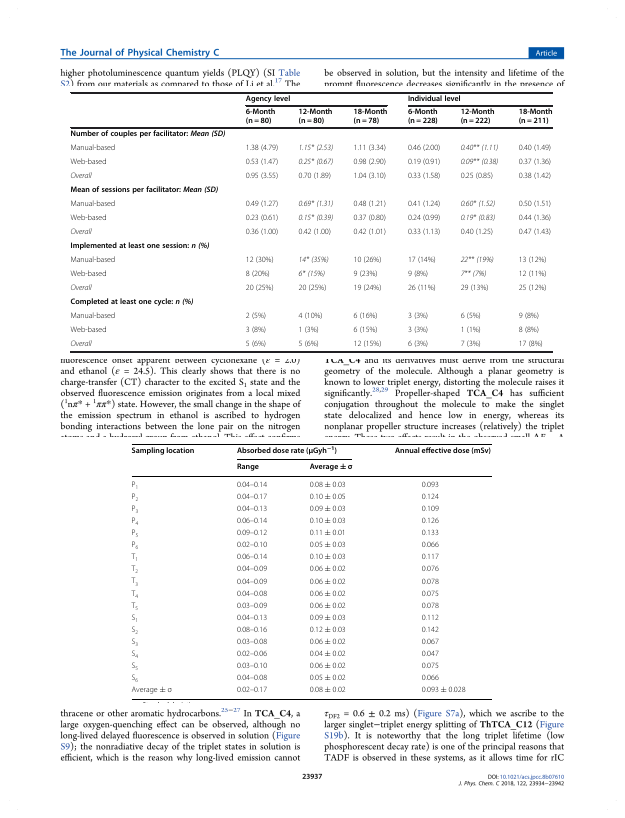borderless: (69, 91, 552, 351), (130, 442, 492, 699)
cell: (70, 130, 226, 140), (70, 186, 219, 196), (70, 242, 210, 252), (70, 298, 194, 308), (236, 445, 338, 456), (394, 446, 492, 456), (298, 108, 333, 127), (353, 108, 388, 127), (460, 108, 495, 127), (518, 108, 553, 127), (131, 446, 195, 456), (407, 108, 439, 127), (245, 108, 276, 127), (407, 95, 462, 104), (309, 462, 353, 472), (421, 686, 467, 695), (245, 95, 291, 104), (70, 144, 116, 153), (70, 200, 116, 209), (70, 256, 116, 265), (70, 312, 116, 321), (130, 686, 173, 695), (309, 480, 347, 490), (309, 492, 347, 502), (309, 601, 347, 611), (309, 613, 347, 623), (460, 144, 499, 153), (460, 158, 499, 167), (309, 505, 347, 514), (309, 517, 347, 526), (309, 529, 347, 538), (309, 541, 347, 550), (309, 553, 347, 562), (309, 565, 347, 574), (309, 577, 347, 586), (309, 589, 347, 598), (309, 626, 347, 635), (309, 638, 347, 647), (309, 650, 347, 659), (309, 662, 347, 671), (309, 674, 347, 683), (309, 686, 347, 695), (70, 158, 107, 167), (70, 214, 107, 223), (70, 270, 107, 279), (70, 326, 107, 335), (298, 144, 334, 153), (298, 158, 334, 167), (298, 200, 334, 209), (460, 200, 496, 209), (298, 214, 334, 223), (460, 214, 496, 223), (236, 480, 268, 490), (236, 492, 268, 502), (236, 601, 268, 611), (236, 613, 268, 623), (460, 256, 495, 265), (245, 144, 279, 153), (353, 144, 387, 153), (407, 144, 441, 153), (518, 144, 552, 153), (245, 158, 279, 167), (353, 158, 387, 167), (407, 158, 441, 167), (518, 158, 552, 167), (245, 172, 279, 181), (298, 172, 332, 181), (353, 172, 387, 181), (407, 172, 441, 181), (460, 172, 494, 181), (518, 172, 552, 181), (245, 200, 279, 209), (353, 200, 387, 209), (407, 200, 441, 209), (518, 200, 552, 209), (245, 214, 279, 223), (353, 214, 387, 223), (407, 214, 441, 223), (518, 214, 552, 223), (245, 228, 279, 237), (298, 228, 332, 237), (353, 228, 387, 237), (407, 228, 441, 237), (460, 228, 494, 237), (518, 228, 552, 237), (236, 505, 268, 514), (236, 517, 268, 526), (236, 529, 268, 538), (236, 541, 268, 550), (236, 553, 268, 562), (236, 565, 268, 574), (236, 577, 268, 586), (236, 589, 268, 598), (236, 626, 268, 635), (236, 638, 268, 647), (236, 650, 268, 659), (236, 662, 268, 671), (236, 674, 268, 683), (236, 686, 268, 695), (298, 256, 329, 265), (407, 256, 437, 265), (407, 284, 437, 293), (245, 256, 274, 265), (353, 256, 382, 265), (518, 256, 547, 265), (518, 270, 547, 279), (245, 284, 274, 293), (298, 284, 327, 293), (353, 284, 382, 293), (460, 284, 489, 293), (518, 284, 547, 293), (353, 340, 382, 349), (298, 270, 326, 279), (460, 270, 487, 279), (236, 462, 260, 472), (245, 270, 271, 279), (518, 340, 544, 349), (353, 270, 378, 279), (298, 312, 323, 321), (353, 312, 378, 321), (353, 326, 378, 335), (70, 172, 93, 181), (70, 228, 93, 237), (70, 284, 93, 293), (70, 340, 93, 349), (407, 270, 429, 279), (245, 312, 267, 321), (407, 312, 429, 321), (460, 312, 482, 321), (518, 312, 540, 321), (245, 326, 267, 335), (298, 326, 320, 335), (407, 326, 429, 335), (460, 326, 482, 335), (518, 326, 540, 335), (245, 340, 267, 349), (298, 340, 320, 349), (407, 340, 429, 349), (460, 340, 482, 349), (421, 480, 440, 490), (421, 492, 440, 502), (421, 601, 440, 611), (421, 613, 440, 623), (421, 505, 440, 514), (421, 517, 440, 526), (421, 529, 440, 538), (421, 541, 440, 550), (421, 553, 440, 562), (421, 565, 440, 574), (421, 577, 440, 586), (421, 589, 440, 598), (421, 626, 440, 635), (421, 638, 440, 647), (421, 650, 440, 659), (421, 662, 440, 671), (421, 674, 440, 683), (130, 553, 139, 564), (130, 565, 139, 576), (130, 577, 139, 588), (130, 589, 139, 600), (130, 601, 139, 612), (130, 613, 139, 624), (130, 662, 139, 673), (130, 674, 139, 685), (130, 626, 139, 636), (130, 638, 139, 648), (130, 650, 139, 660), (131, 480, 139, 491), (131, 492, 139, 503), (131, 541, 139, 552), (131, 505, 139, 515), (131, 517, 139, 527), (131, 529, 139, 539)
